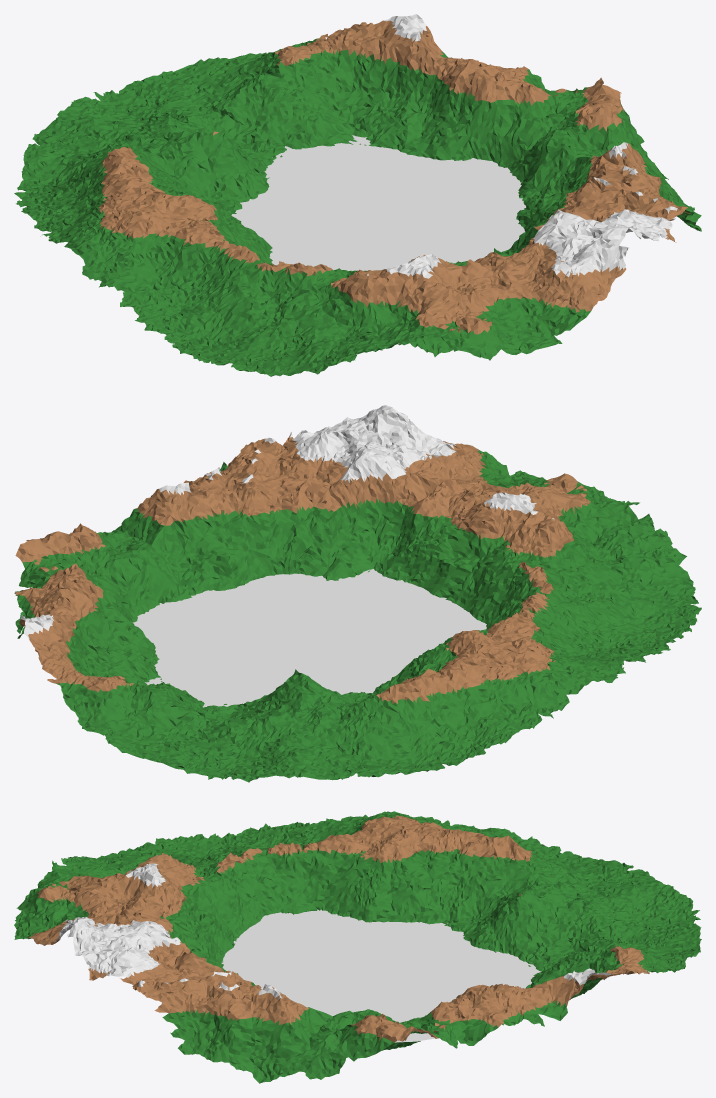
Rendered from Mountains.fbx.
The picture shows the model from 3 angles, top to bottom: view 1: azimuth 30°, elevation 25°; view 2: azimuth 150°, elevation 25°; view 3: azimuth 270°, elevation 25°; orthographic projection. The views are drawn at different scales.
Parts seen in each view (by area): view 1: Landscape.002, Circle; view 2: Landscape.002, Circle; view 3: Landscape.002, Circle.
Boxes of the visible parts, <box> form: Landscape.002: <box>14,14,701,376</box>; Circle: <box>231,135,526,270</box>; Landscape.002: <box>14,405,701,782</box>; Circle: <box>133,569,486,707</box>; Landscape.002: <box>14,811,701,1083</box>; Circle: <box>221,909,541,1042</box>.
Size of the model in its own units: 125 by 147 by 27.9.
